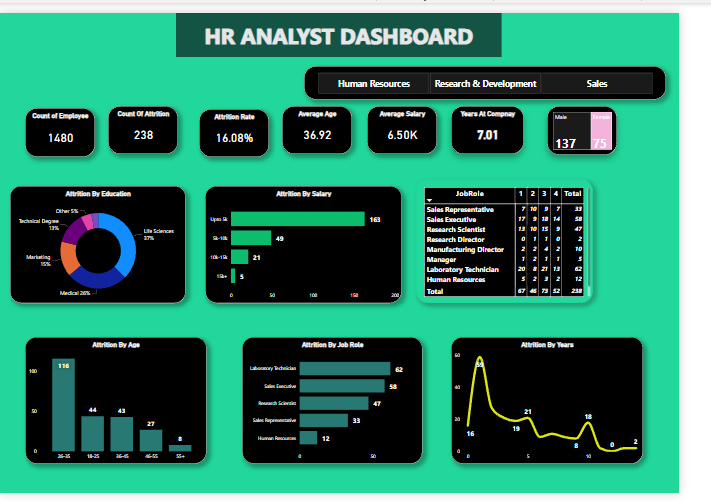

What the dashboard file says about the page in this screenshot:
{"tool":"powerbi","page":{"name":"Page 1","canvas":[1700,1200],"ordinal":0},"visuals":[{"type":"card","title":"Count of Employee","fields":{"Values":["CountNonNull(HR_Analytics.EmpID)"]},"box":[64.8,237.6,175.2,122.4],"z":0},{"type":"card","title":"Count Of Attrition","fields":{"Values":["Sum(HR_Analytics.AttritionCount)"]},"box":[273.6,232.8,175.2,120],"z":1000},{"type":"card","title":"Attrition Rate","fields":{"Values":["HR_Analytics.AttritionRate"]},"box":[499.2,240,175.2,120],"z":2000},{"type":"card","title":"Average Age","fields":{"Values":["Avg(HR_Analytics.Age)"]},"box":[708,232.8,175.2,120],"z":3000},{"type":"card","title":"Average Salary","fields":{"Values":["Avg(HR_Analytics.MonthlyIncome)"]},"box":[919.2,232.8,175.2,120],"z":4000},{"type":"card","title":"Years At Compnay","fields":{"Values":["Avg(HR_Analytics.YearsAtCompany)"]},"box":[1130.4,232.8,182.4,120],"z":5000},{"type":"donutChart","title":"Attrition By Education","fields":{"Category":["HR_Analytics.EducationField"],"Y":["Sum(HR_Analytics.AttritionCount)"]},"box":[26.4,432,439.2,292.8],"z":6000},{"type":"columnChart","title":"Attrition By Age","fields":{"Category":["HR_Analytics.AgeGroup"],"Y":["Sum(HR_Analytics.AttritionCount)"]},"box":[64.8,811.2,453.6,316.8],"z":7000},{"type":"pivotTable","fields":{"Rows":["HR_Analytics.JobRole"],"Columns":["HR_Analytics.JobSatisfaction"],"Values":["Sum(HR_Analytics.AttritionCount)"]},"box":[1041.6,415.2,441.6,309.6],"z":8000},{"type":"barChart","title":"Attrition By Salary","fields":{"Category":["HR_Analytics.SalarySlab"],"Y":["Sum(HR_Analytics.AttritionCount)"]},"box":[516,432,492,292.8],"z":9000},{"type":"barChart","title":"Attrition By Job Role","fields":{"Category":["HR_Analytics.JobRole"],"Y":["Sum(HR_Analytics.AttritionCount)"]},"box":[607.2,811.2,451.2,316.8],"z":10000},{"type":"lineChart","title":"Attrition By Years","fields":{"Y":["Sum(HR_Analytics.AttritionCount)"],"Category":["HR_Analytics.YearsAtCompany"]},"box":[1130.4,811.2,480,316.8],"z":11000},{"type":"treemap","fields":{"Values":["Sum(HR_Analytics.AttritionCount)"],"Group":["HR_Analytics.Gender"]},"box":[1370.4,232.8,175.2,122.4],"z":12000},{"type":"slicer","fields":{"Values":["HR_Analytics.Department"]},"box":[763.2,132,904.8,84],"z":13000},{"type":"textbox","box":[441.6,0,813.6,110.4],"z":14000}]}

Visuals, with their boxes in screenshot pixels (x1, y1, x2, y2), scaled from the page's 1700x1200 canvas onto the 711x502 screenshot:
"Count of Employee" card: l=27, t=99, r=100, b=151
"Count Of Attrition" card: l=114, t=97, r=188, b=148
"Attrition Rate" card: l=209, t=100, r=282, b=151
"Average Age" card: l=296, t=97, r=369, b=148
"Average Salary" card: l=384, t=97, r=458, b=148
"Years At Compnay" card: l=473, t=97, r=549, b=148
"Attrition By Education" donutChart: l=11, t=181, r=195, b=303
"Attrition By Age" columnChart: l=27, t=339, r=217, b=472
pivotTable - HR_Analytics.JobRole x HR_Analytics.JobSatisfaction: l=436, t=174, r=620, b=303
"Attrition By Salary" barChart: l=216, t=181, r=422, b=303
"Attrition By Job Role" barChart: l=254, t=339, r=443, b=472
"Attrition By Years" lineChart: l=473, t=339, r=674, b=472
treemap - Sum(HR_Analytics.AttritionCount) x HR_Analytics.Gender: l=573, t=97, r=646, b=149
slicer - HR_Analytics.Department: l=319, t=55, r=698, b=90
textbox: l=185, t=0, r=525, b=46
